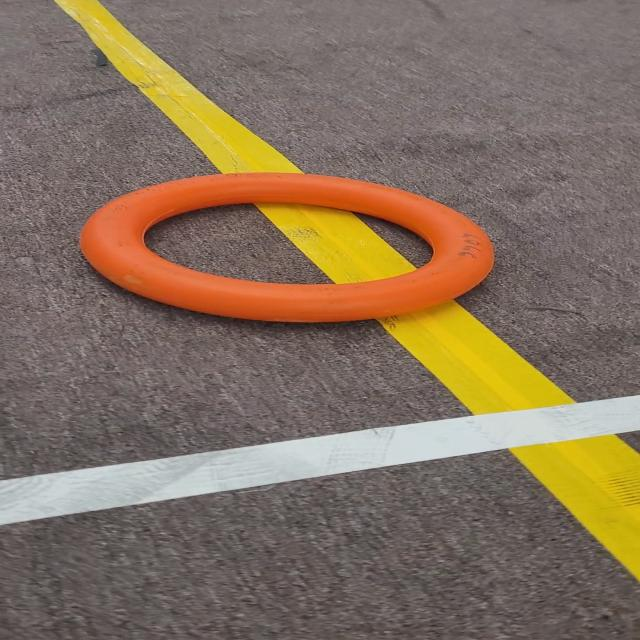note: (71, 159, 547, 339)
